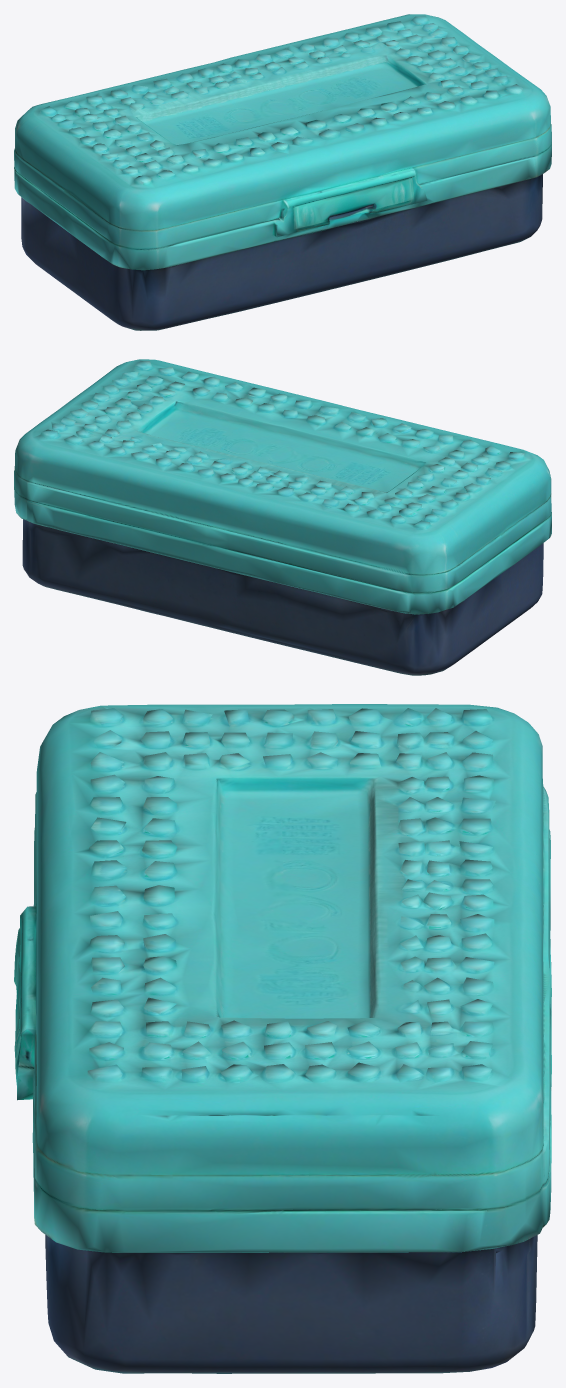
The model's file is Meshy_Model_20250604_215647.glb.
The picture shows the model from 3 angles, top to bottom: view 1: azimuth 30°, elevation 25°; view 2: azimuth 150°, elevation 25°; view 3: azimuth 270°, elevation 25°; orthographic projection. The views are drawn at different scales.
Bounding box in the file's own units: 2.01 × 0.6462 × 1.09.
1 material, 1 textured.
